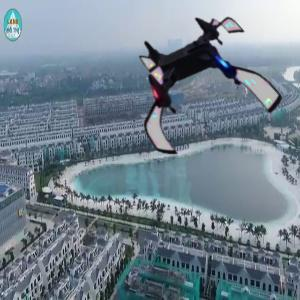drone: (122, 12, 274, 164)
